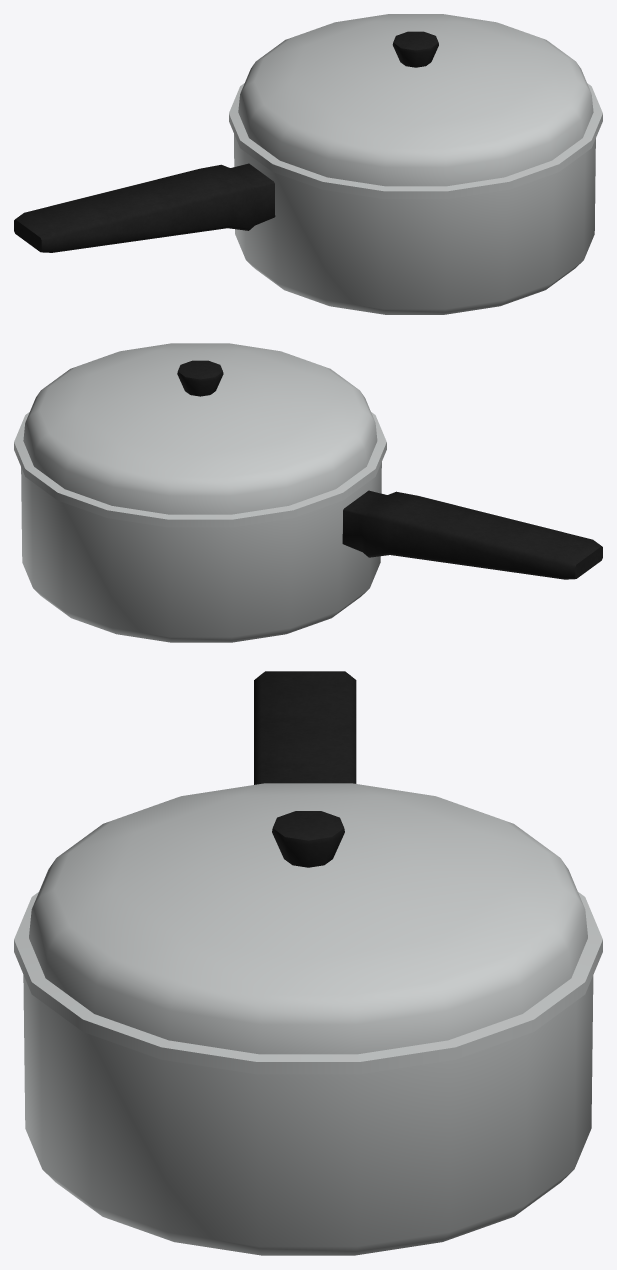
Rendered from small_pot.FBX.
The picture shows the model from 3 angles, top to bottom: view 1: azimuth 30°, elevation 25°; view 2: azimuth 150°, elevation 25°; view 3: azimuth 270°, elevation 25°; orthographic projection. The views are drawn at different scales.
Parts seen in each view (by area): view 1: small_pot; view 2: small_pot; view 3: small_pot.
Part boxes in pixels (x1=…): small_pot: x1=14, y1=14, x2=602, y2=314; small_pot: x1=14, y1=343, x2=602, y2=642; small_pot: x1=14, y1=671, x2=602, y2=1255.
Size of the model in its own units: 40.86 by 14.53 by 24.14.
Materials: 1 (1 with a texture image).
